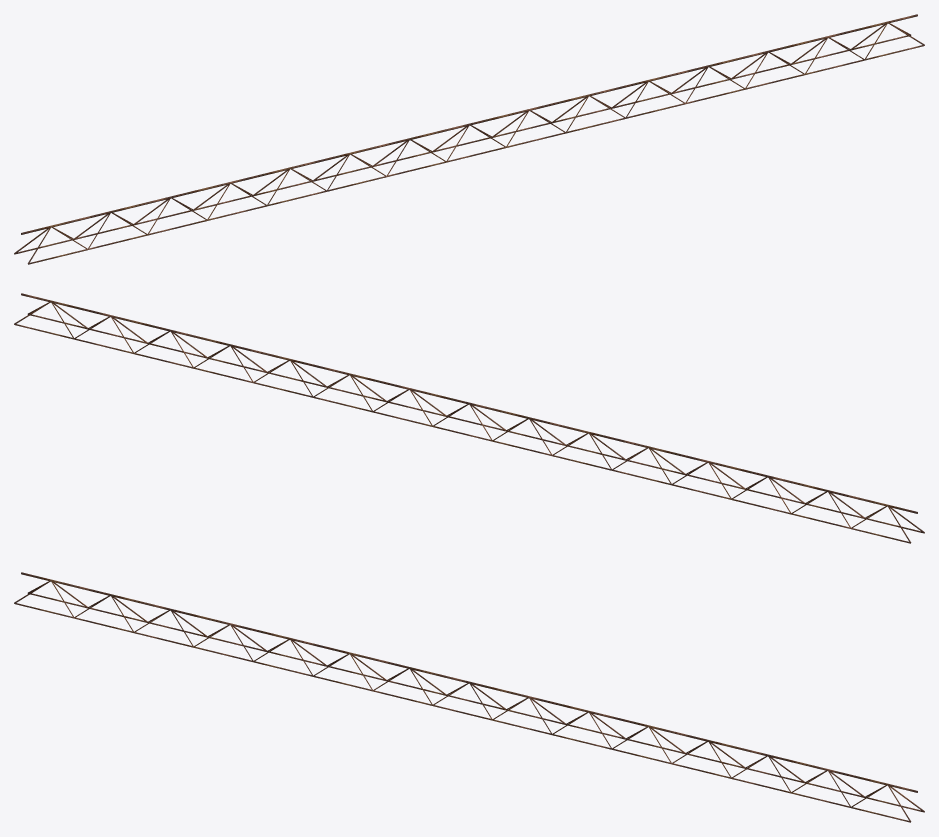
Rendered from EST-LAJ-002_lod1.glb.
3 renders of one model, top to bottom at view 1: azimuth 30°, elevation 25°; view 2: azimuth 150°, elevation 25°; view 3: azimuth 330°, elevation 25°, orthographic.
Parts seen in each view (by area): view 1: EST-LAJ-002_banzo_sup, EST-LAJ-002_sinus, EST-LAJ-002_banzo_inf, EST-LAJ-002_banzo_inf.001, EST-LAJ-002_sinus.001; view 2: EST-LAJ-002_banzo_sup, EST-LAJ-002_sinus.001, EST-LAJ-002_banzo_inf.001, EST-LAJ-002_banzo_inf, EST-LAJ-002_sinus; view 3: EST-LAJ-002_banzo_sup, EST-LAJ-002_sinus, EST-LAJ-002_banzo_inf, EST-LAJ-002_banzo_inf.001, EST-LAJ-002_sinus.001.
Part boxes in pixels (left/top/right/bottom): EST-LAJ-002_banzo_sup: left=21, top=14, right=917, bottom=234; EST-LAJ-002_sinus: left=27, top=23, right=924, bottom=263; EST-LAJ-002_banzo_inf: left=28, top=45, right=924, bottom=264; EST-LAJ-002_banzo_inf.001: left=14, top=35, right=908, bottom=254; EST-LAJ-002_sinus.001: left=14, top=24, right=911, bottom=253; EST-LAJ-002_banzo_sup: left=21, top=293, right=917, bottom=513; EST-LAJ-002_sinus.001: left=14, top=302, right=911, bottom=542; EST-LAJ-002_banzo_inf.001: left=14, top=324, right=910, bottom=543; EST-LAJ-002_banzo_inf: left=30, top=314, right=924, bottom=533; EST-LAJ-002_sinus: left=27, top=303, right=924, bottom=532; EST-LAJ-002_banzo_sup: left=21, top=572, right=917, bottom=792; EST-LAJ-002_sinus: left=14, top=581, right=911, bottom=821; EST-LAJ-002_banzo_inf: left=14, top=603, right=910, bottom=822; EST-LAJ-002_banzo_inf.001: left=30, top=593, right=924, bottom=812; EST-LAJ-002_sinus.001: left=27, top=582, right=924, bottom=811.
Size of the model in its own units: 3 by 0.0845 by 0.0842.
1 material, 1 textured.
